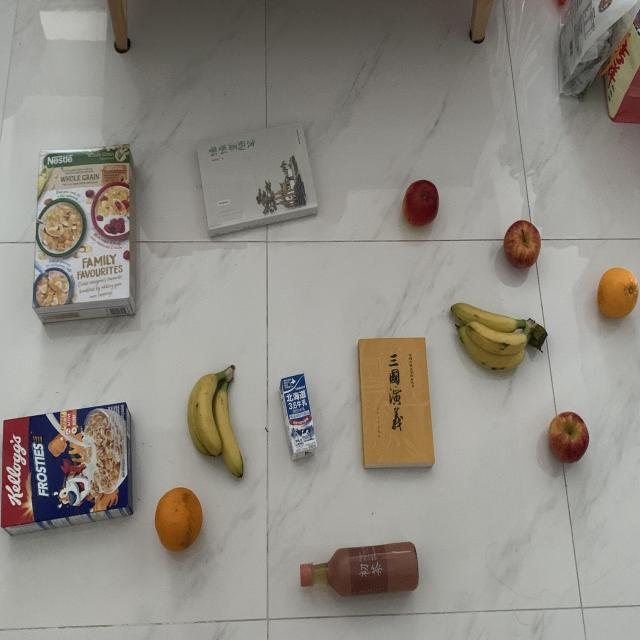Apple: (498, 217, 544, 271), (547, 412, 591, 464), (399, 180, 441, 228)
Banana: (183, 360, 247, 482), (449, 300, 547, 376)
Book: (191, 119, 323, 241), (354, 335, 438, 471)
Cerealbox: (30, 139, 140, 328), (0, 397, 136, 536)
Orange: (152, 485, 204, 553), (595, 266, 639, 322)
